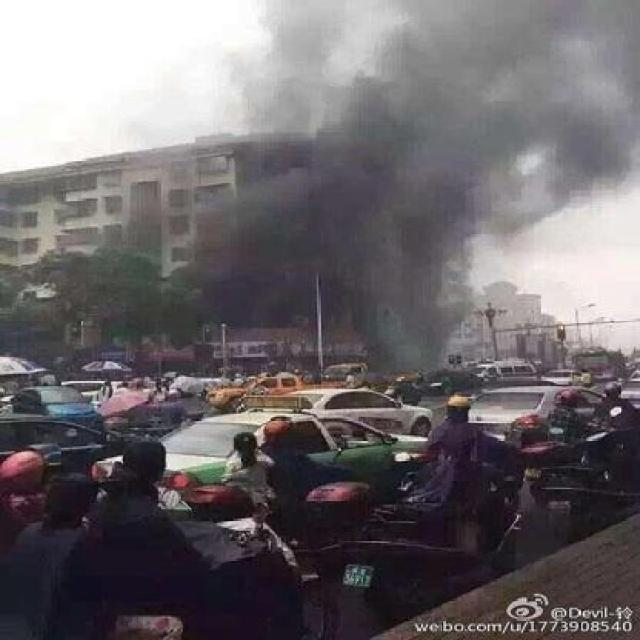Smoke: (212, 12, 640, 324)
